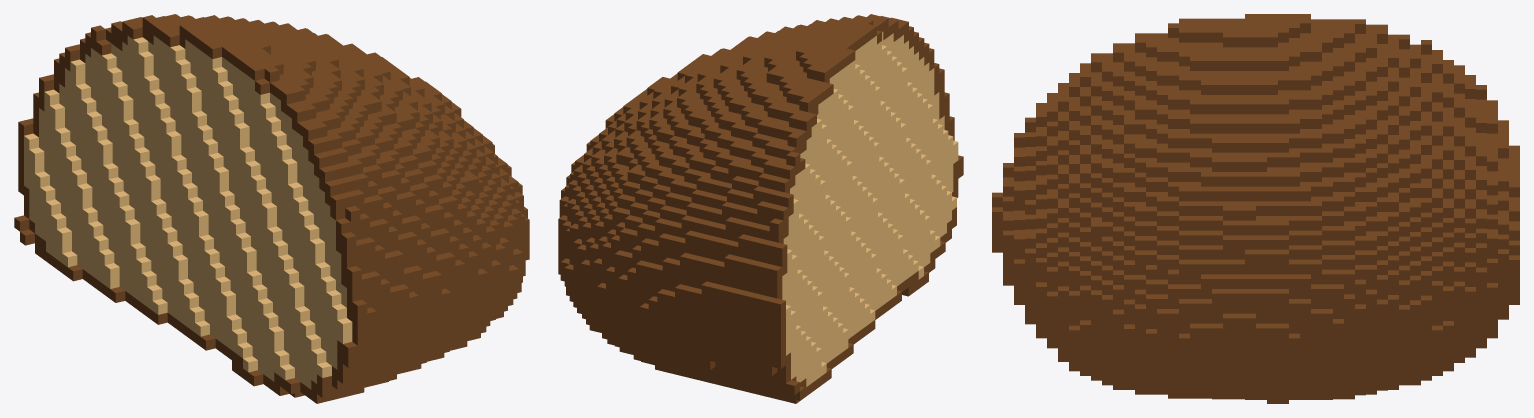
Rendered from Bread Loaf Quarter Large.obj.
3 views of the same model, side by side, from view 1: azimuth 30°, elevation 25°; view 2: azimuth 150°, elevation 25°; view 3: azimuth 270°, elevation 25° (orthographic). The views are drawn at different scales.
Size of the model in its own units: 3.6 by 2.9 by 4.8.
1 material, 1 textured.
